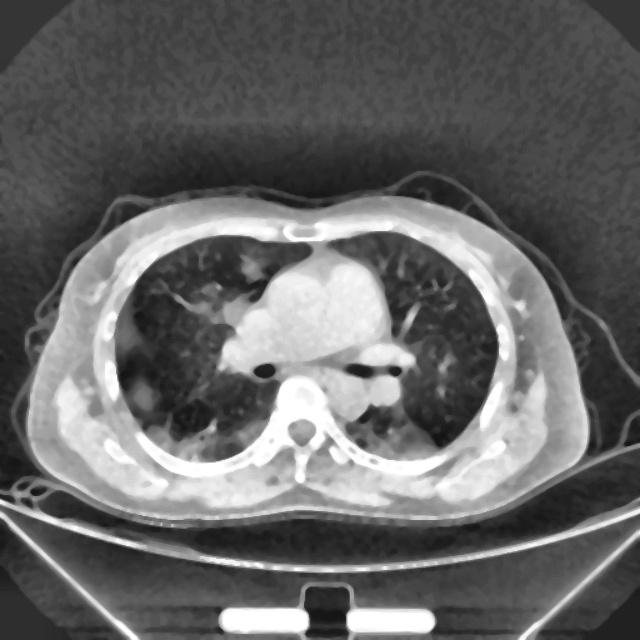covid: (21, 185, 592, 529)
